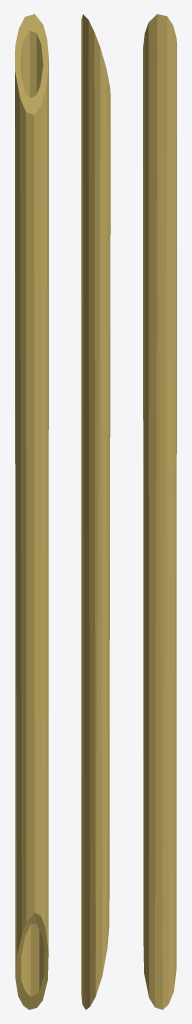
The model's file is Pole_Bamboo.glb.
The picture shows the model from 3 angles, left to right: view 1: azimuth 90°, elevation 25°; view 2: azimuth 210°, elevation 25°; view 3: azimuth 270°, elevation 25°; orthographic projection.
Visible parts, largest first — view 1: Cylinder; view 2: Cylinder; view 3: Cylinder.
Part boxes in pixels (x1,y1,x2,y2): Cylinder: (15,14,48,1009); Cylinder: (81,14,110,1009); Cylinder: (143,14,176,1009).
Bounding box in the file's own units: 0.0765 × 3.02 × 0.0933.
